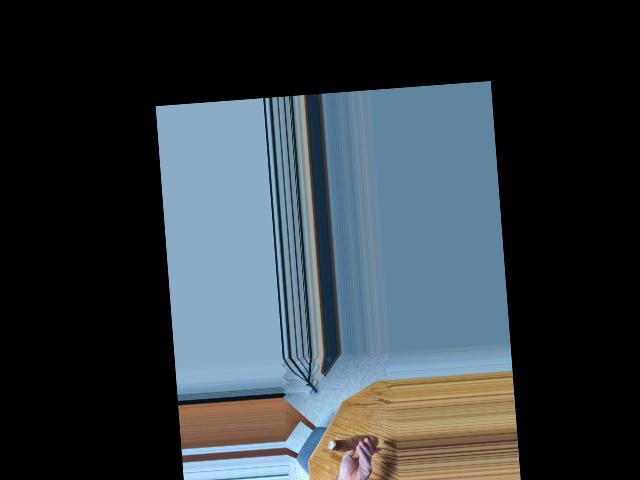sweet_potato: (332, 429, 374, 451)
